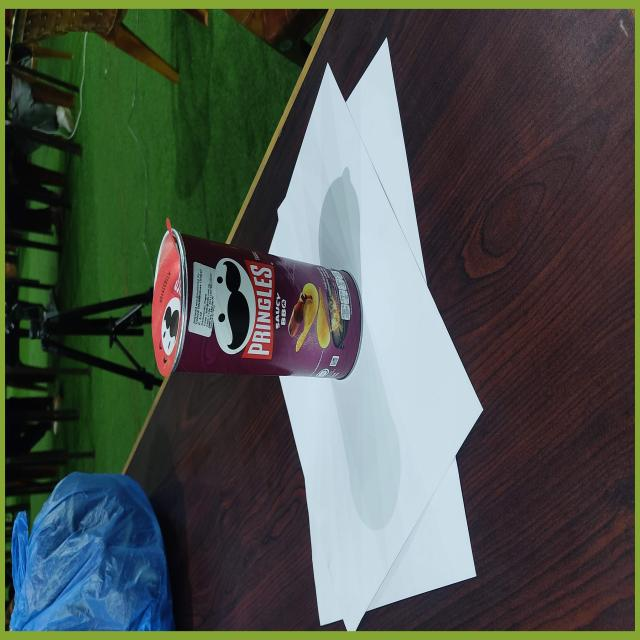Pringles: (150, 221, 363, 381)
